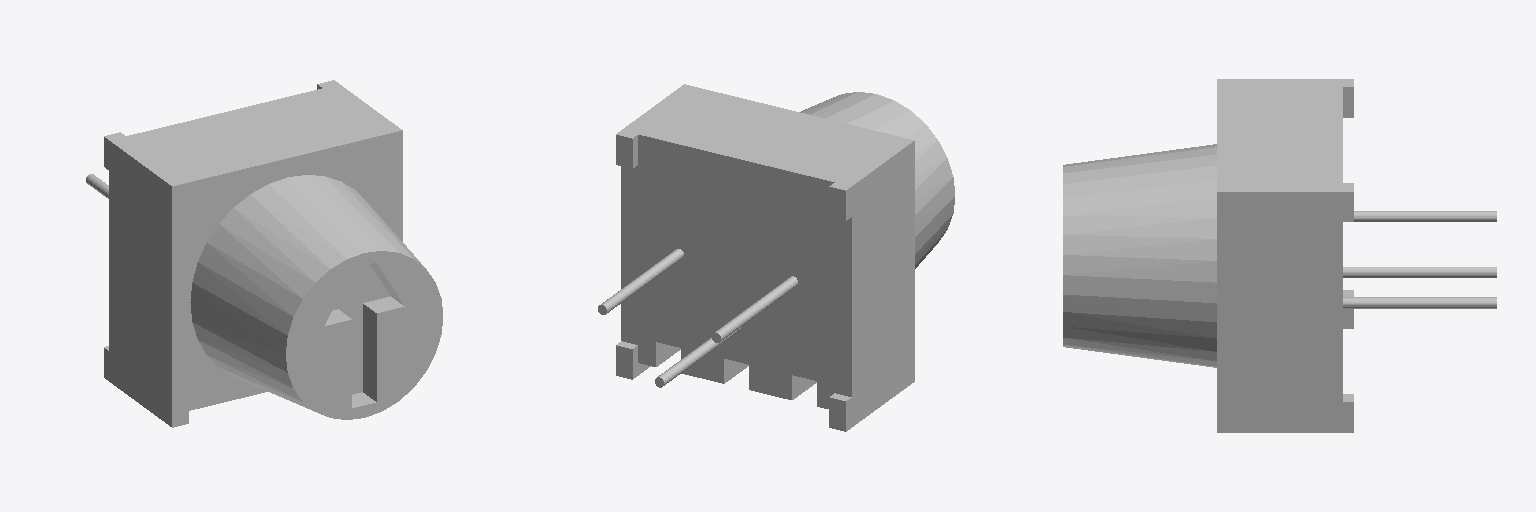
Rendered from PotMeterBlue.obj.
The picture shows the model from 3 angles: view 1: azimuth 30°, elevation 25°; view 2: azimuth 150°, elevation 25°; view 3: azimuth 270°, elevation 25°; orthographic projection.
Parts seen in each view (by area): view 1: Body1; view 2: Body1; view 3: Body1.
Boxes of the visible parts, box(x1,y1,x2,y2) form: Body1: box(86, 80, 442, 427); Body1: box(598, 84, 954, 431); Body1: box(1063, 79, 1496, 432).
Bounding box in the file's own units: 9.5 × 9.5 × 15.5.